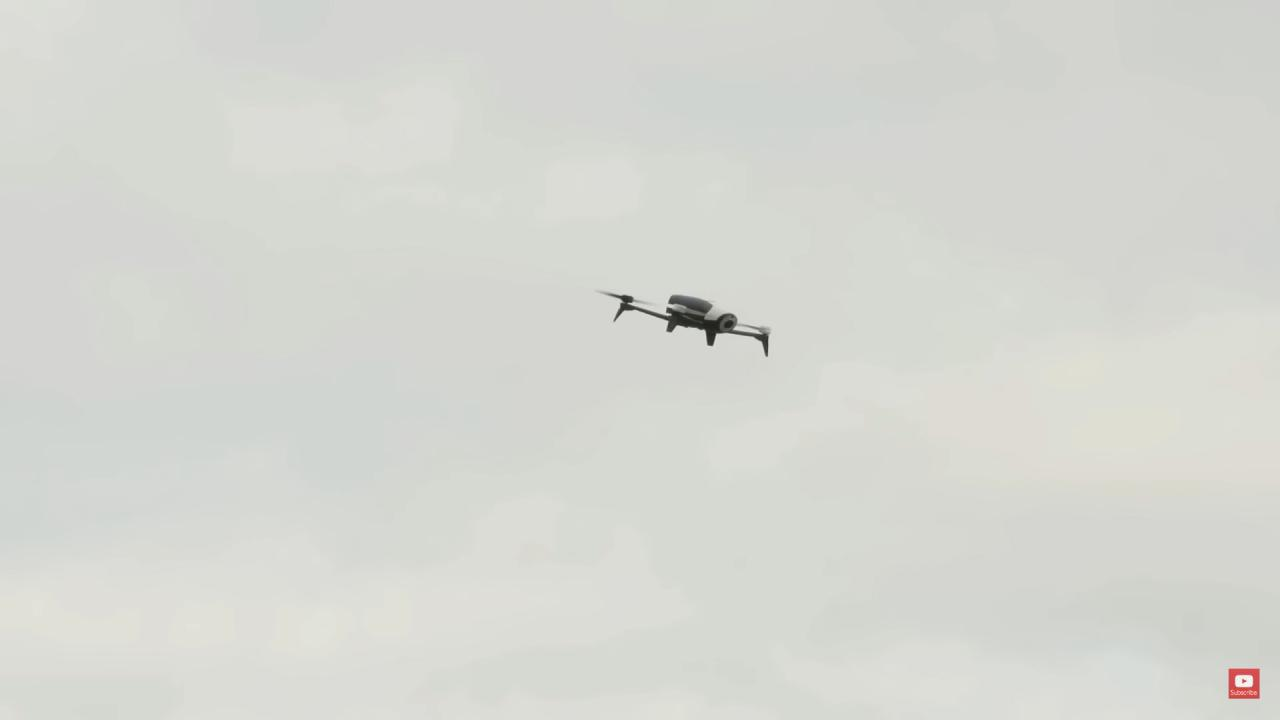Drone: (589, 280, 777, 370)
